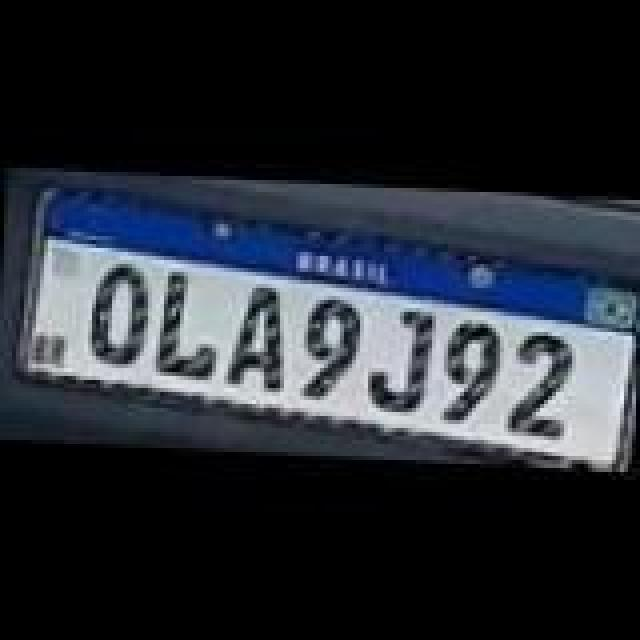2: (510, 328, 578, 440)
9: (436, 320, 508, 432), (302, 296, 370, 408)
A: (226, 278, 294, 394)
J: (366, 304, 434, 416)
L: (152, 270, 232, 386)
O: (86, 262, 154, 378)
